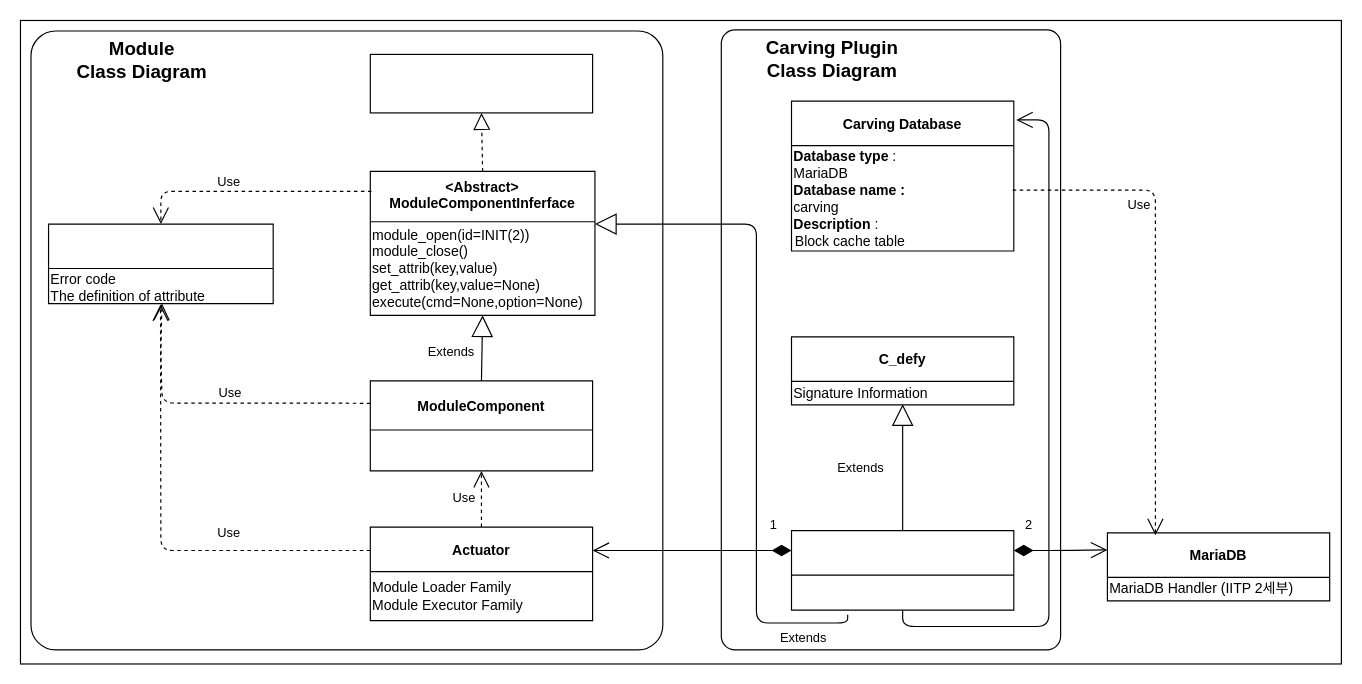
Some shapes in this 1362 by 684 pixel diagram are drawn without their labels. Each missing label, with the box of its shape:
Carving Management: (790, 529, 1014, 610)
ModuleConstant: (47, 223, 273, 304)
«interface» Module Component Interface: (369, 53, 593, 113)
